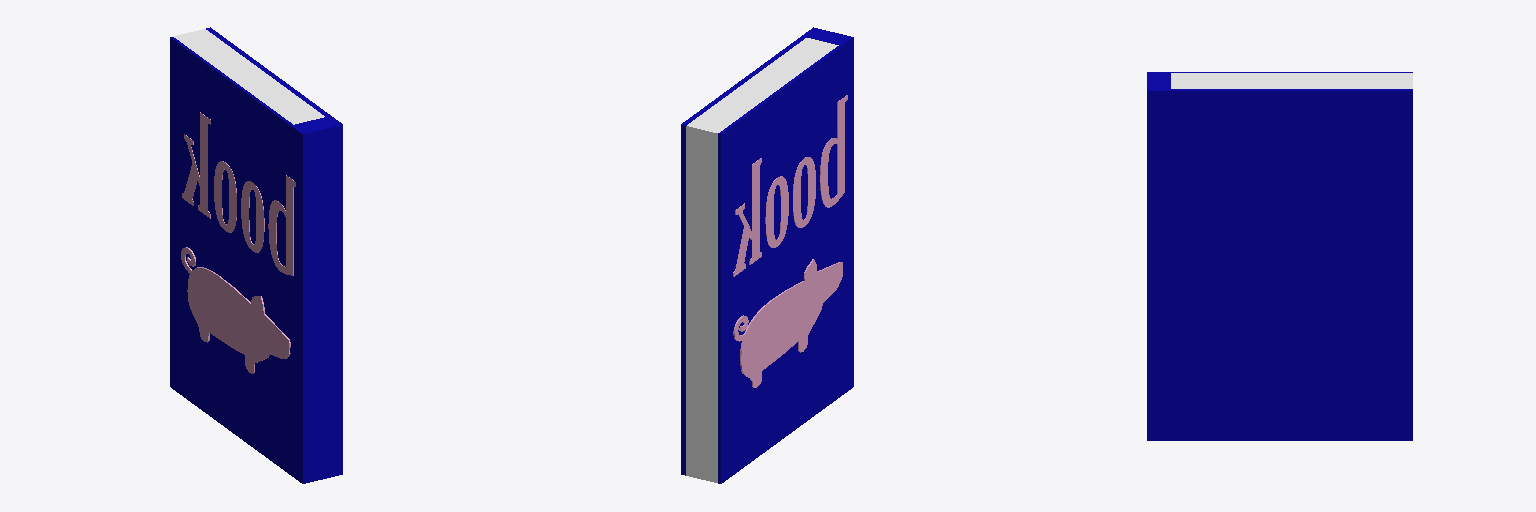
Rendered from BlueBook.obj.
3 renders of one model, left to right at view 1: azimuth 30°, elevation 25°; view 2: azimuth 150°, elevation 25°; view 3: azimuth 270°, elevation 25°, orthographic.
Visible parts, largest first — view 1: tinker; view 2: tinker; view 3: tinker.
Boxes of the visible parts, x1=… form: tinker: x1=170, y1=27, x2=342, y2=483; tinker: x1=681, y1=27, x2=853, y2=483; tinker: x1=1147, y1=72, x2=1412, y2=440.
Size of the model in its own units: 2 by 16 by 11.